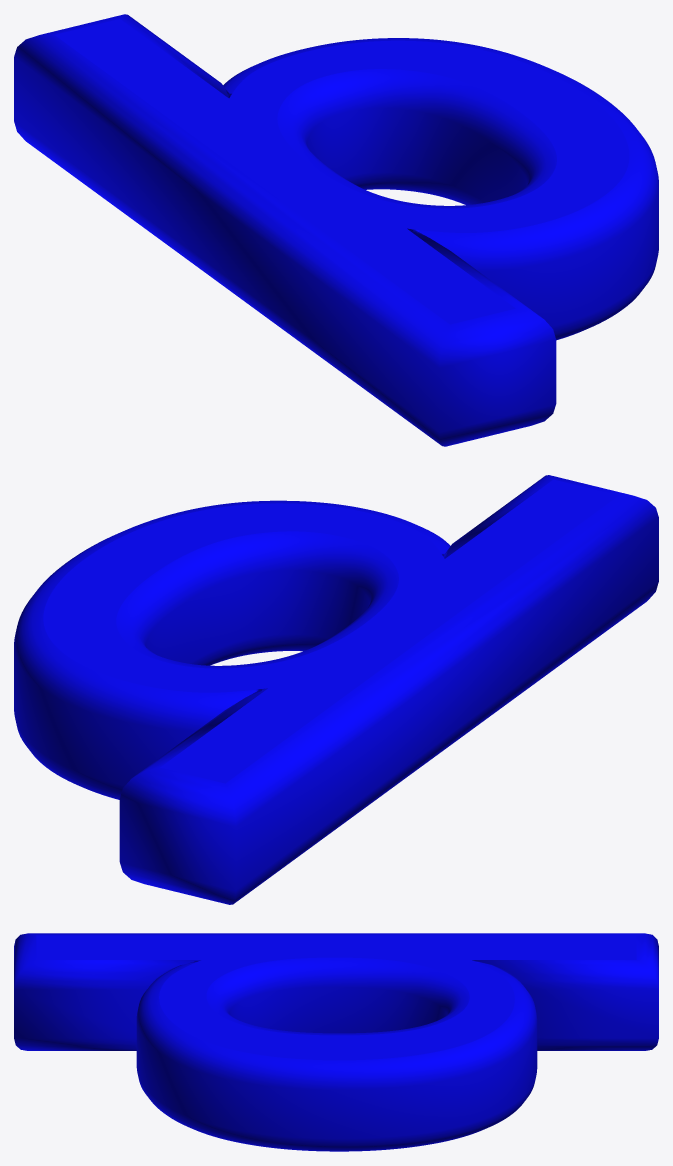
The picture shows the model from 3 angles, top to bottom: view 1: azimuth 30°, elevation 25°; view 2: azimuth 150°, elevation 25°; view 3: azimuth 270°, elevation 25°; orthographic projection. The views are drawn at different scales.
Parts seen in each view (by area): view 1: texto; view 2: texto; view 3: texto.
Boxes of the visible parts, <box> form: texto: <box>14,14,658,446</box>; texto: <box>14,475,658,904</box>; texto: <box>14,933,658,1151</box>.
Bounding box in the file's own units: 0.7612 × 0.22 × 1.44.
